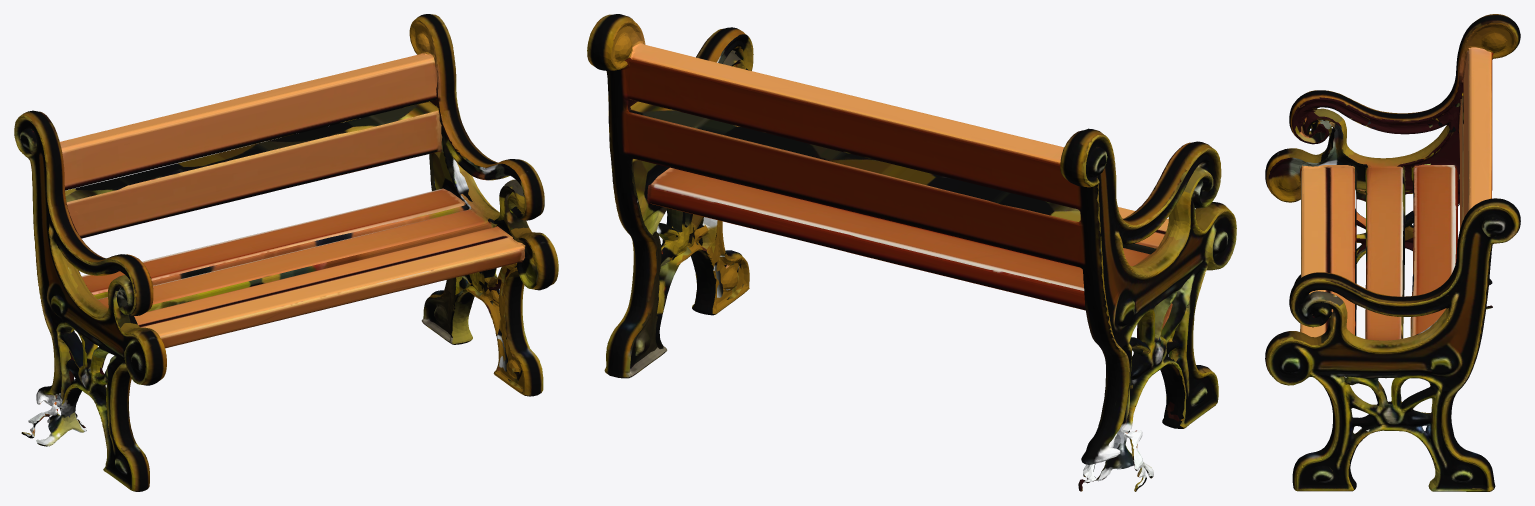
The model's file is cozy_garden_bench.glb.
3 renders of one model, left to right at view 1: azimuth 30°, elevation 25°; view 2: azimuth 150°, elevation 25°; view 3: azimuth 270°, elevation 25°, orthographic. The views are drawn at different scales.
Visible parts, largest first — view 1: tmpqfhwk4m2.ply; view 2: tmpqfhwk4m2.ply; view 3: tmpqfhwk4m2.ply.
Part boxes in pixels (box(x1,y1,x2,y2)): tmpqfhwk4m2.ply: box(14, 14, 558, 491); tmpqfhwk4m2.ply: box(587, 14, 1236, 491); tmpqfhwk4m2.ply: box(1265, 14, 1520, 491).
Bounding box in the file's own units: 1.97 × 1.31 × 1.04.
1 material, 1 textured.
